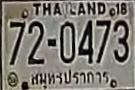0: (60, 21, 74, 62)
2: (28, 20, 45, 64)
3: (113, 19, 128, 61)
4: (78, 18, 92, 62)
7: (9, 21, 25, 64), (96, 19, 110, 62)
SPK: (28, 70, 114, 89)
